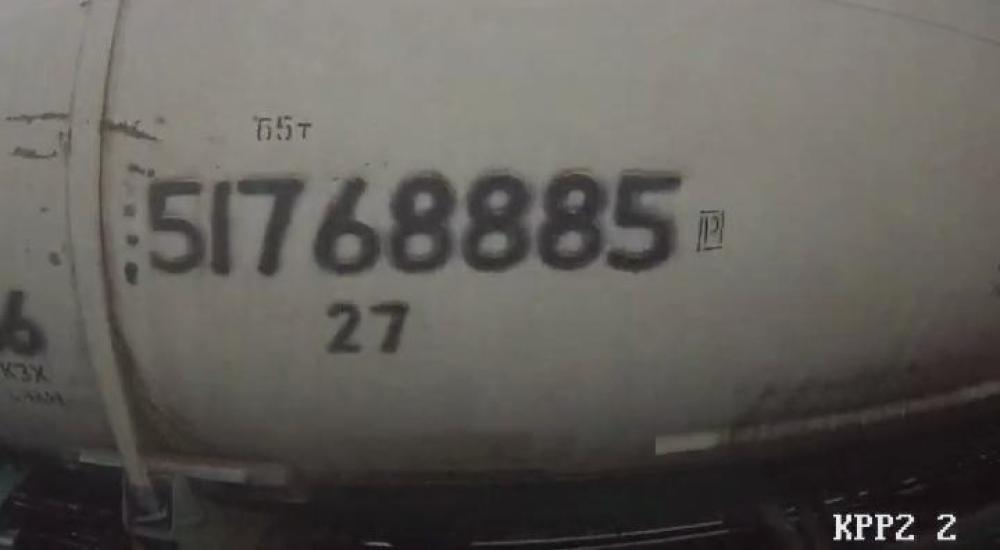Wagon-number: (140, 166, 687, 285)
